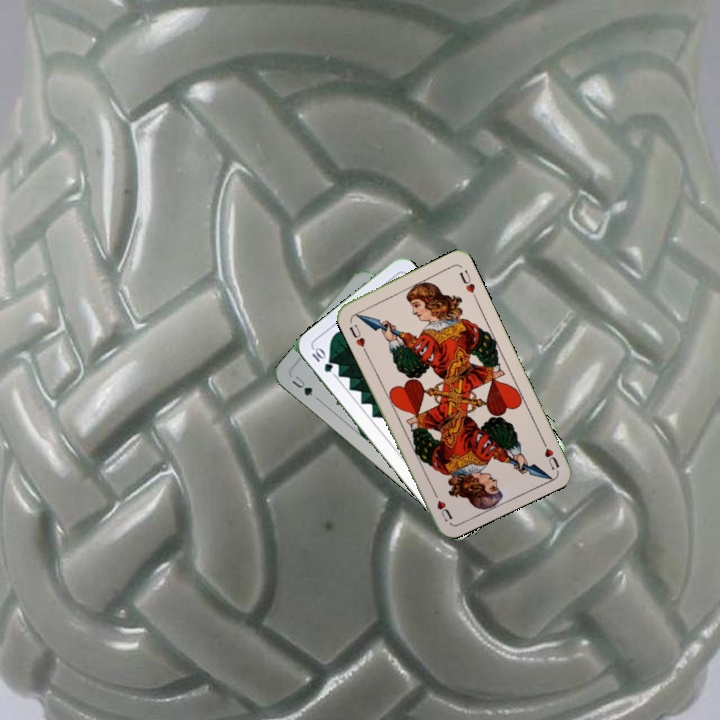G10: (307, 344, 336, 375)
GU: (288, 372, 316, 399)
HU: (537, 434, 562, 472), (345, 321, 368, 350)
